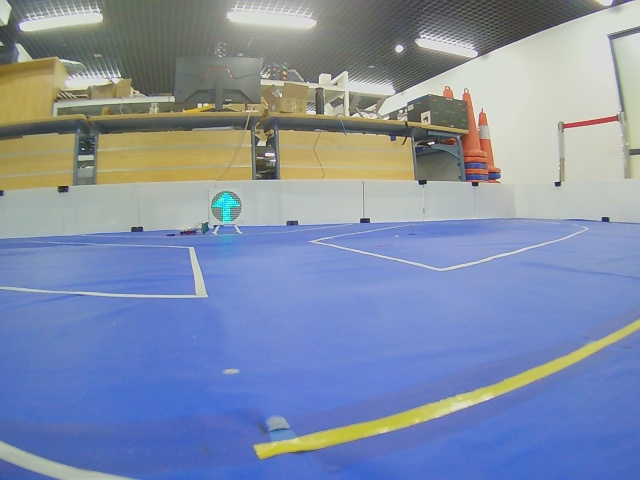straight_green: (211, 191, 242, 224)
